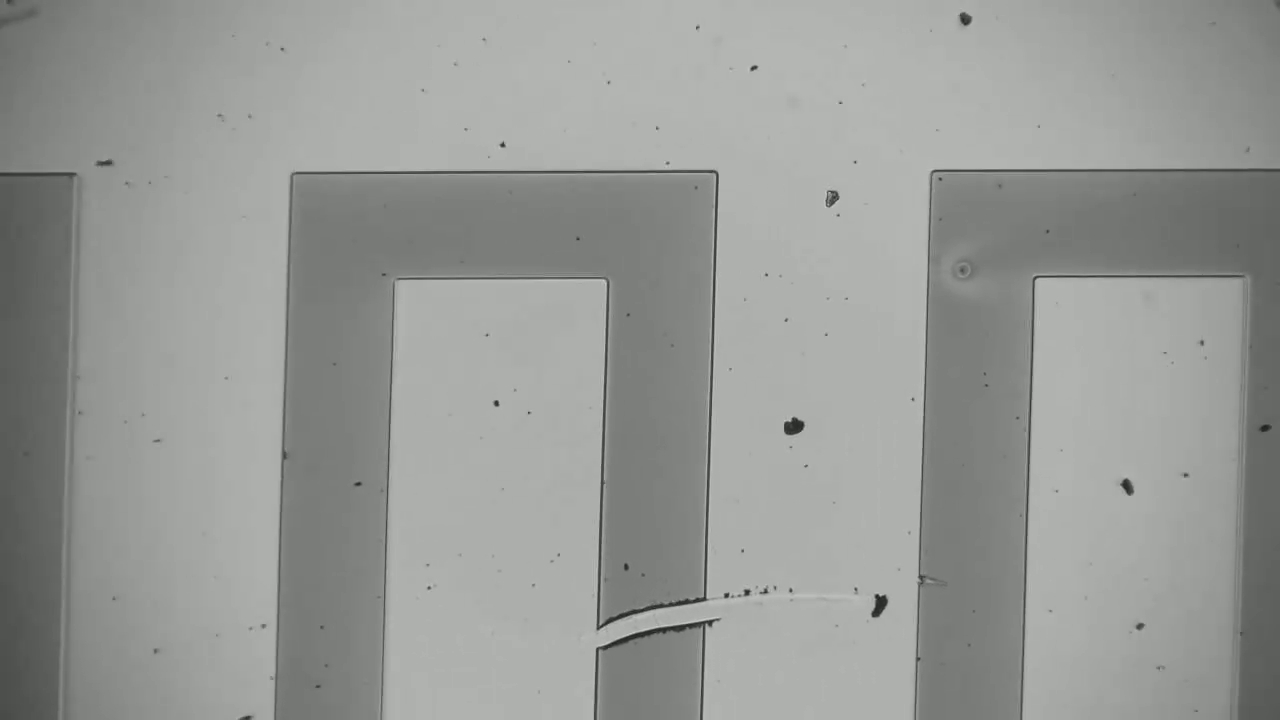Short_circuit: (578, 583, 741, 673)
